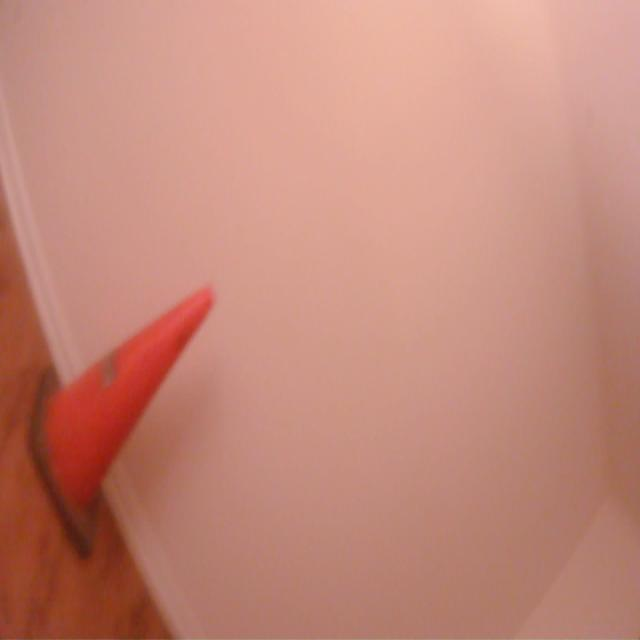traffic cone: (29, 276, 219, 567)
